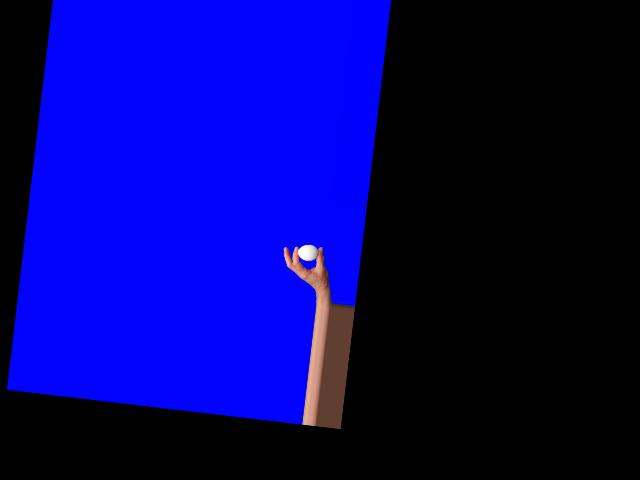egg: (297, 243, 319, 261)
